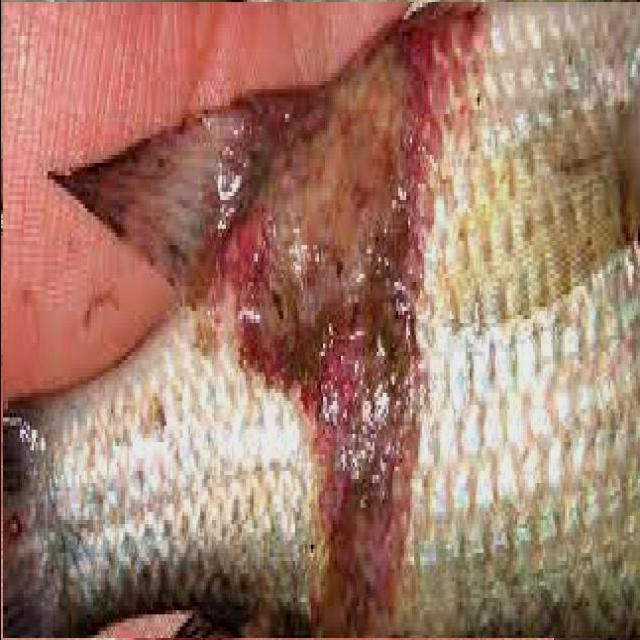EUS Disease: (3, 0, 640, 639), (46, 81, 597, 632)
